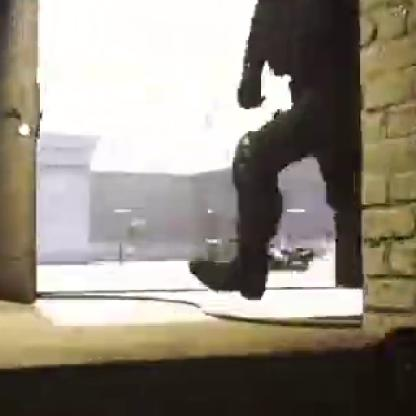enemy: (188, 1, 368, 300)
